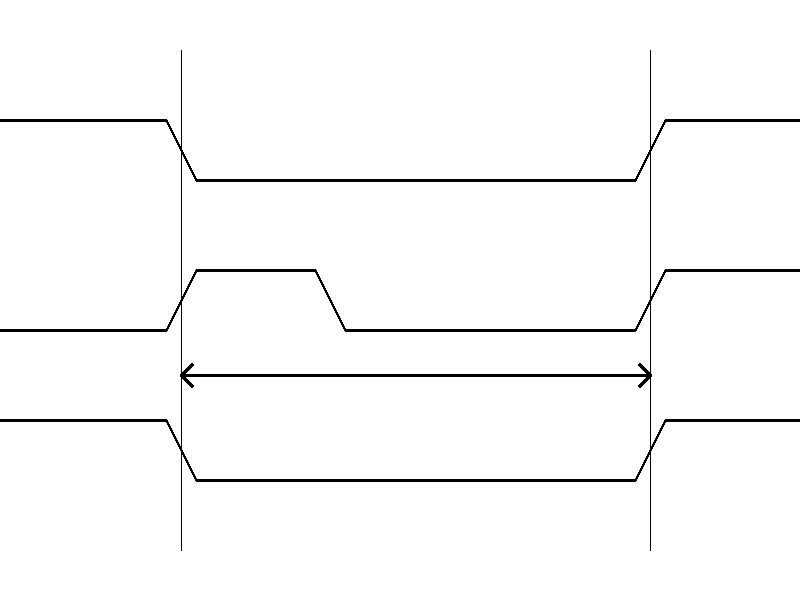double_arrow: (181, 360, 650, 390)
